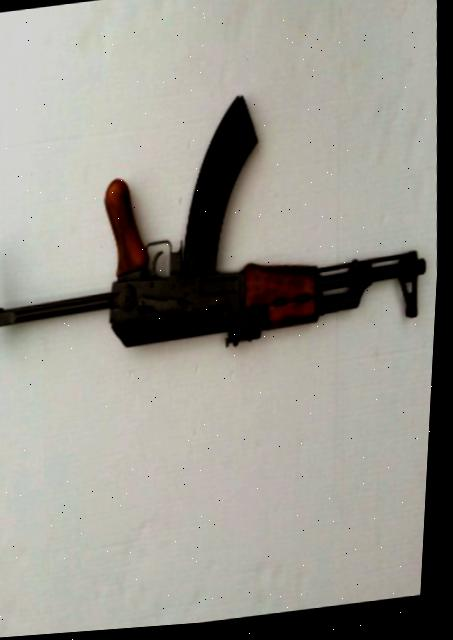rifle: (0, 74, 443, 396)
